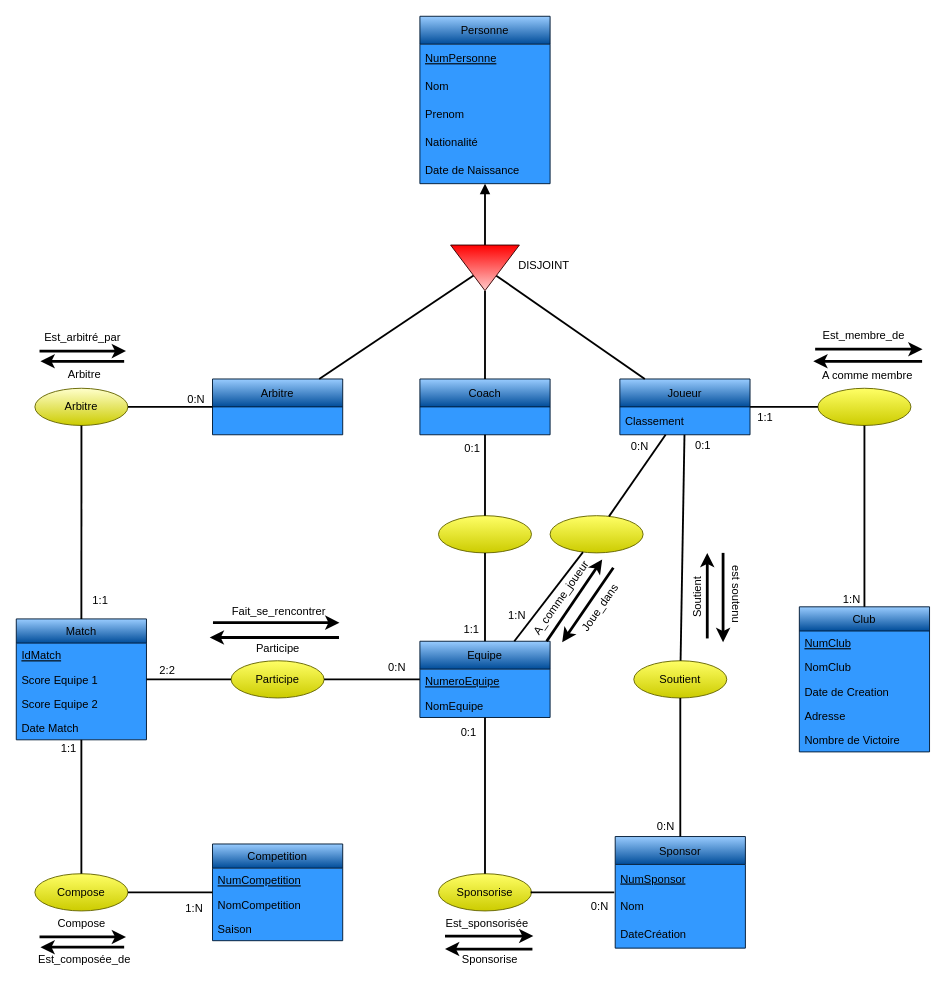
This 948x985 diagram has some shape labels left out. Here are the shapes that lost their labels. From the top down, the centre of each, then its label:
At (484,267): "IS A".
At (864,406): "Membre".
At (484,534): "Est_affecté_à".
At (596,534): "Joue".
